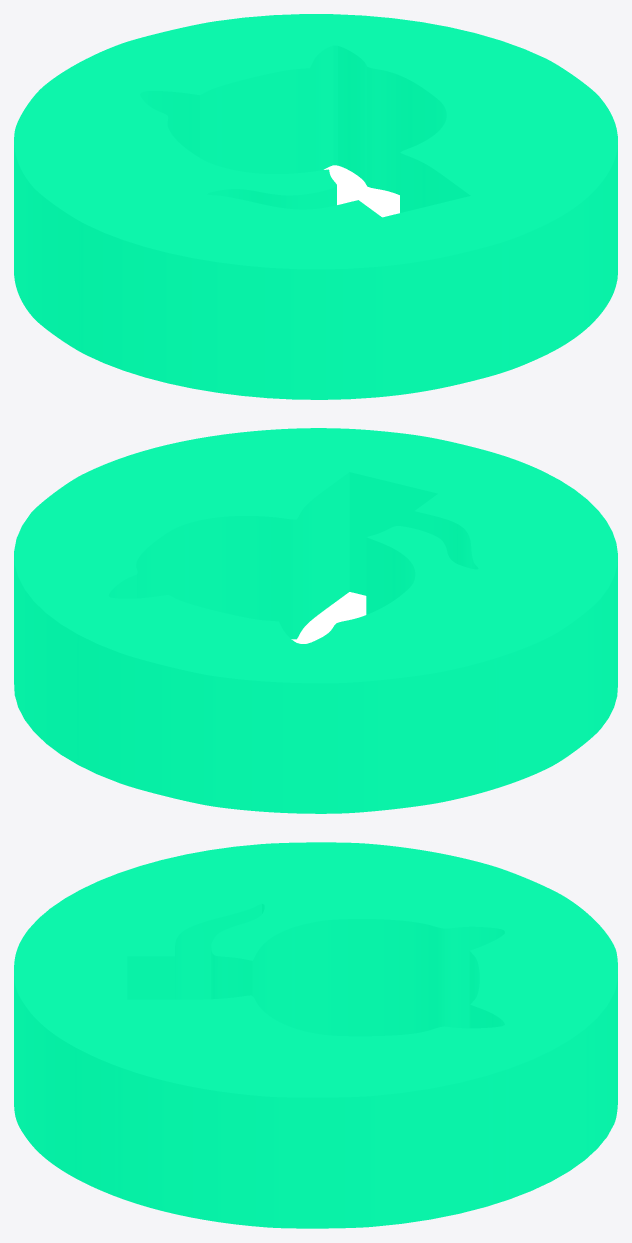
The model's file is github-icon.glb.
3 views of the same model, one above another, from view 1: azimuth 30°, elevation 25°; view 2: azimuth 150°, elevation 25°; view 3: azimuth 270°, elevation 25° (orthographic).
Visible parts, largest first — view 1: Curve, Curve.001; view 2: Curve, Curve.001; view 3: Curve.
Part boxes in pixels (left/top/right/bottom): Curve: left=14, top=14, right=617, bottom=399; Curve.001: left=324, top=165, right=399, bottom=217; Curve: left=14, top=428, right=617, bottom=813; Curve.001: left=291, top=592, right=366, bottom=643; Curve: left=14, top=842, right=617, bottom=1228.
Size of the model in its own units: 2.41 by 0.5756 by 2.41.
